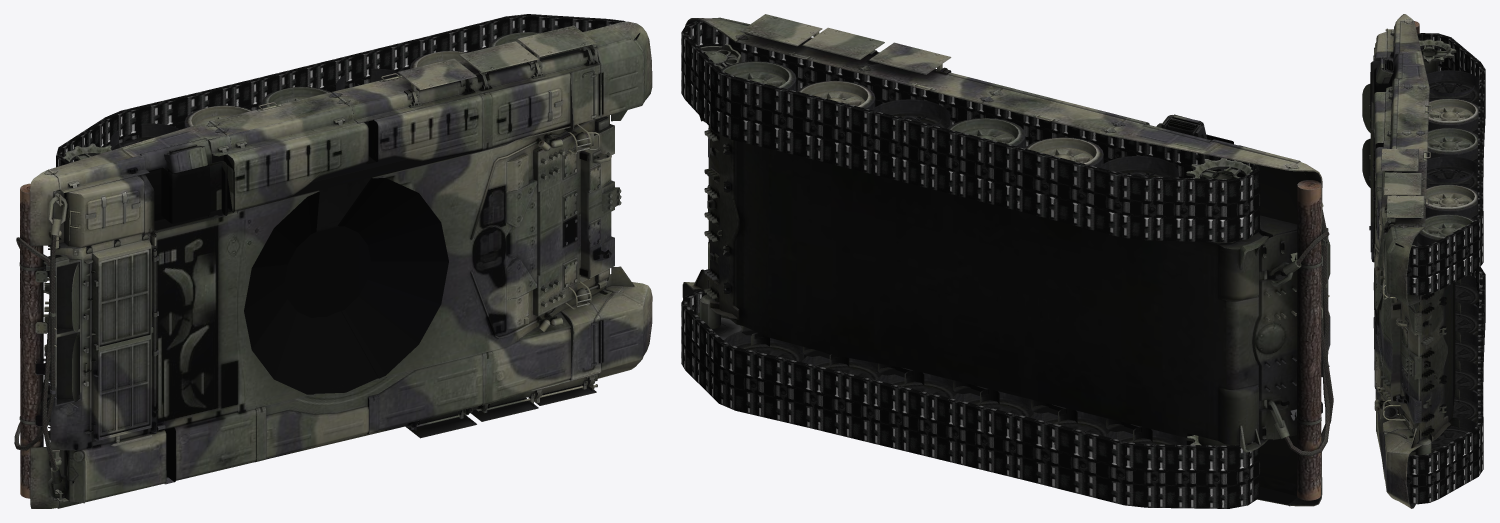
The model's file is hull.gltf.
3 renders of one model, left to right at view 1: azimuth 30°, elevation 25°; view 2: azimuth 150°, elevation 25°; view 3: azimuth 270°, elevation 25°, orthographic. The views are drawn at different scales.
Parts seen in each view (by area): view 1: hull; view 2: hull; view 3: hull.
Boxes of the visible parts, x1,y1,x2,y2 form: hull: (14, 14, 652, 508); hull: (681, 14, 1333, 508); hull: (1362, 14, 1485, 508).
Bounding box in the file's own units: 7.14 × 3.78 × 1.53.
Materials: 2 (2 with a texture image).
